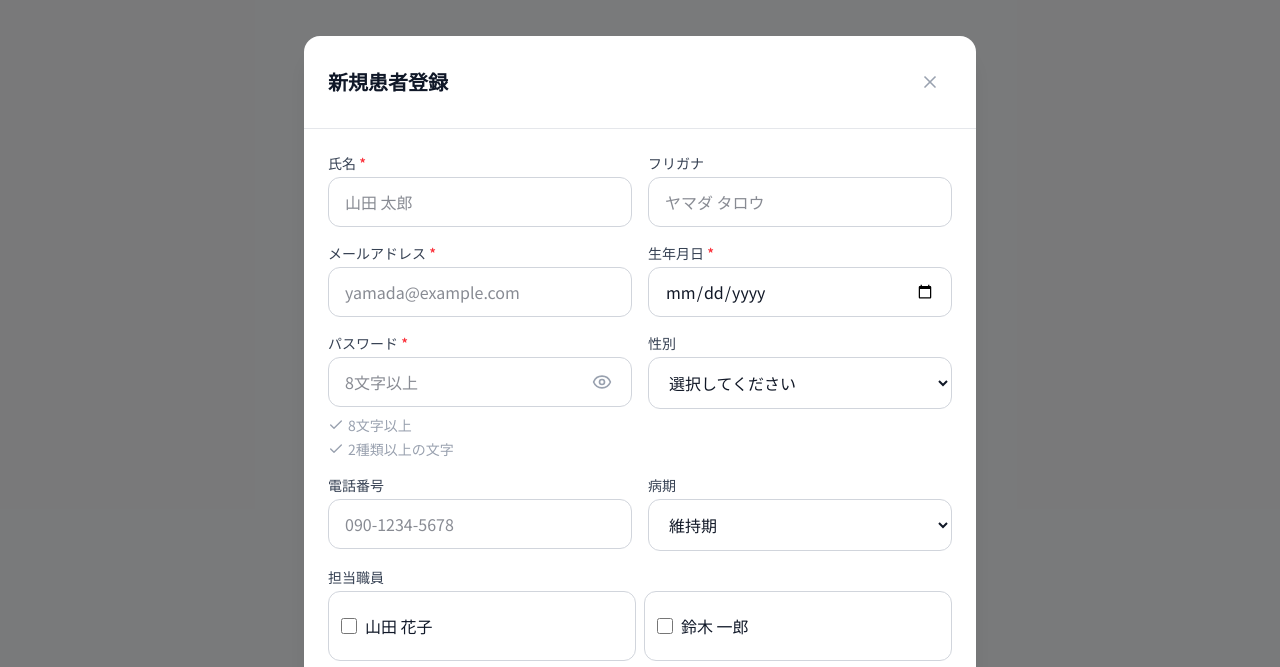
Test: PatientCreateDialog › form submission error › should show error message on API failure
In the field labelled "氏名 *": [480, 202] box left=328, top=177, right=632, bottom=227, type "テスト 太郎"
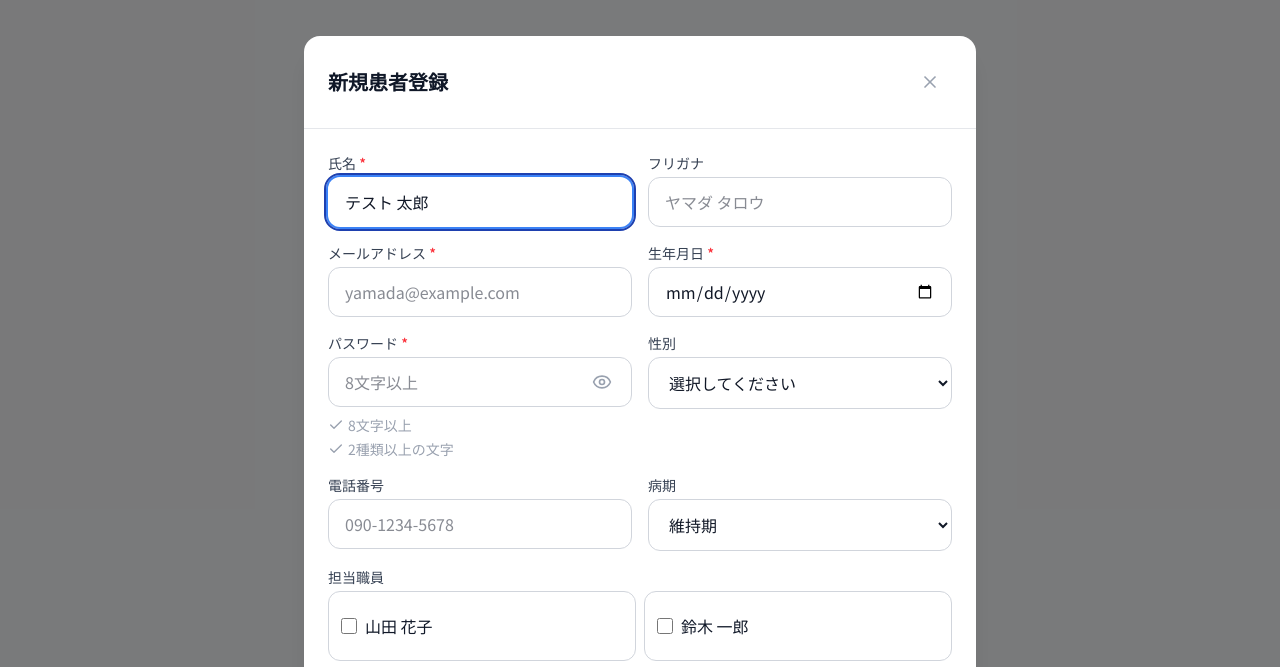
In the field labelled "メールアドレス *": [480, 292] box left=328, top=267, right=632, bottom=317, type "test@example.com"
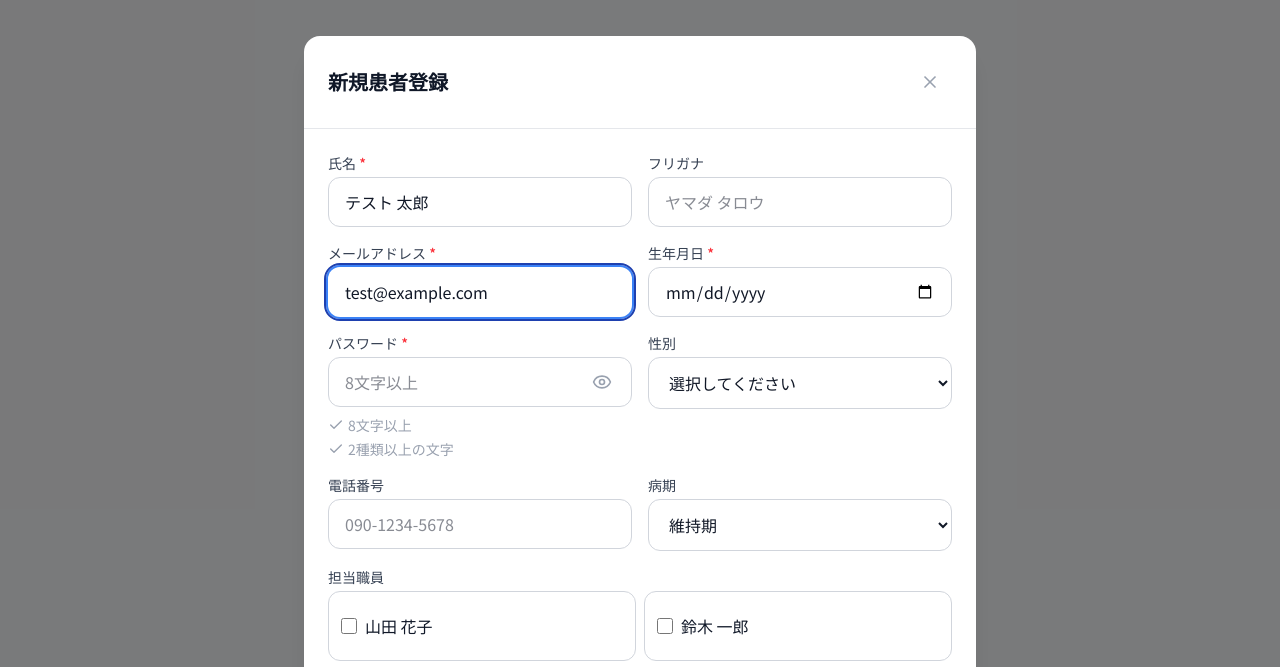
In the date field labelled "生年月日 *": [800, 292] box left=648, top=267, right=952, bottom=317, type "1980-01-01"
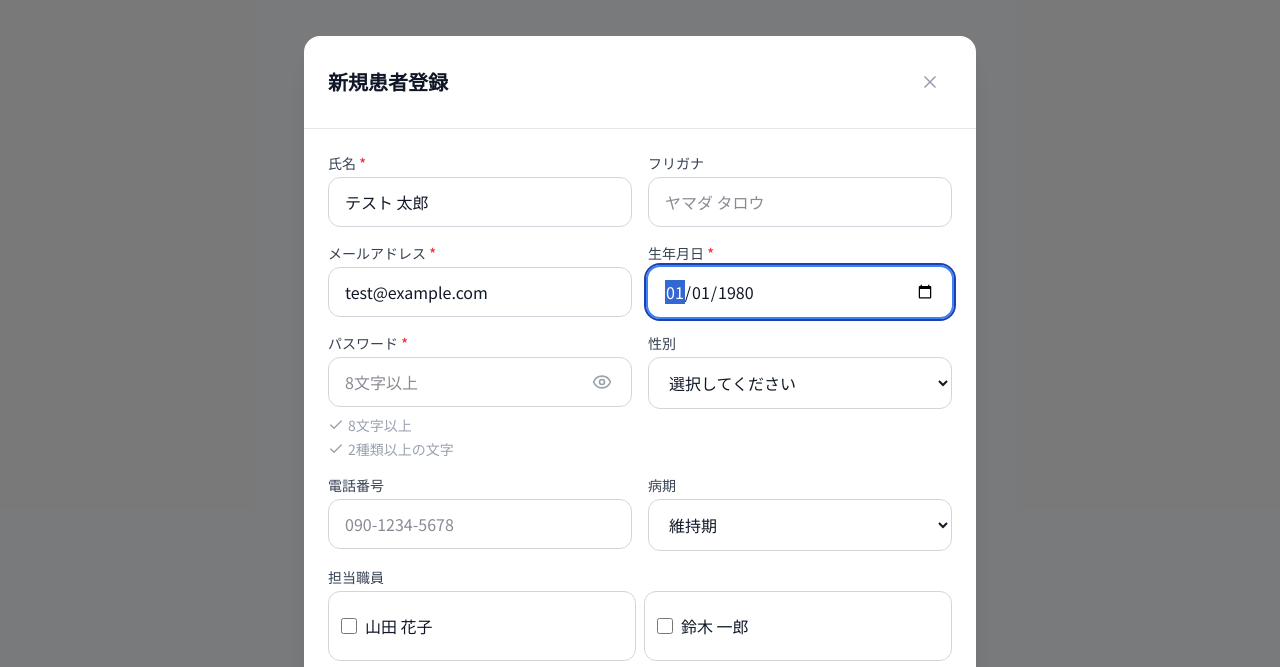
In the password field labelled "パスワード *": [480, 382] box left=328, top=357, right=632, bottom=407, type "Password1!"
(page scrolled)
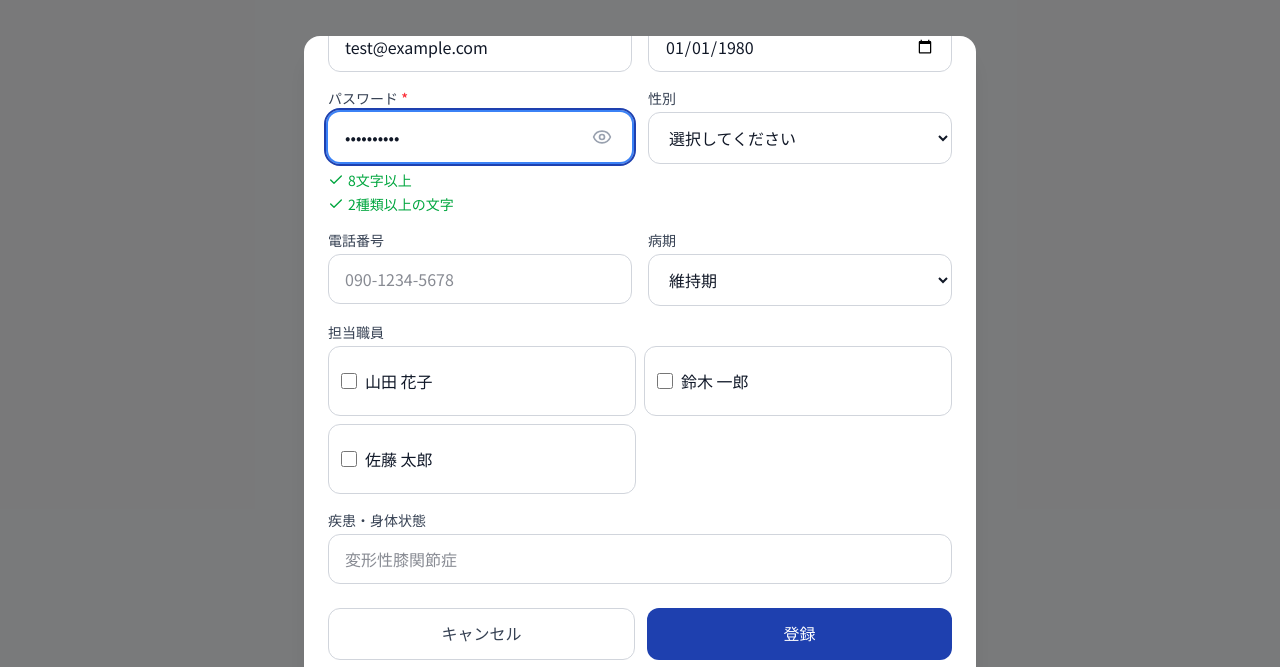
Click the button "登録": [800, 634] box left=647, top=608, right=952, bottom=660
(page scrolled)
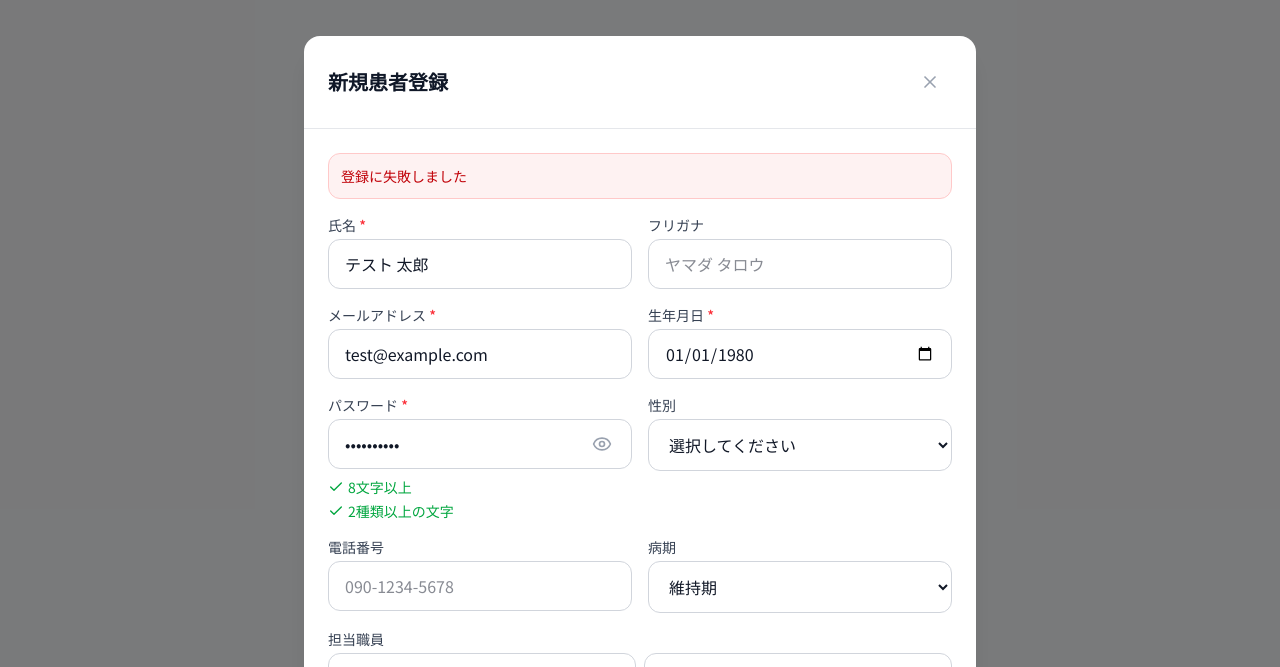
Expected: the text "登録に失敗しました" is shown, left=328, top=153, right=952, bottom=199
